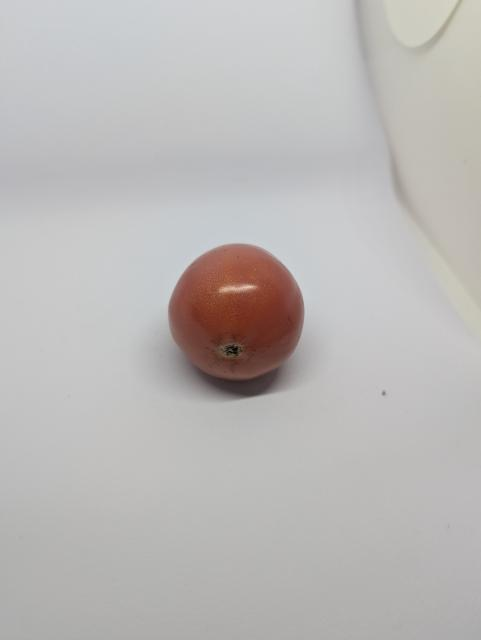red: (154, 227, 314, 398)
